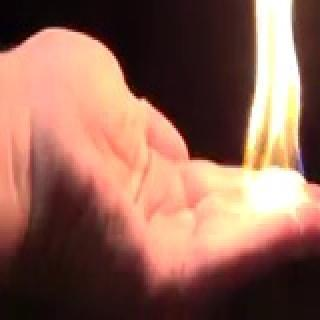fire: (200, 0, 318, 186)
